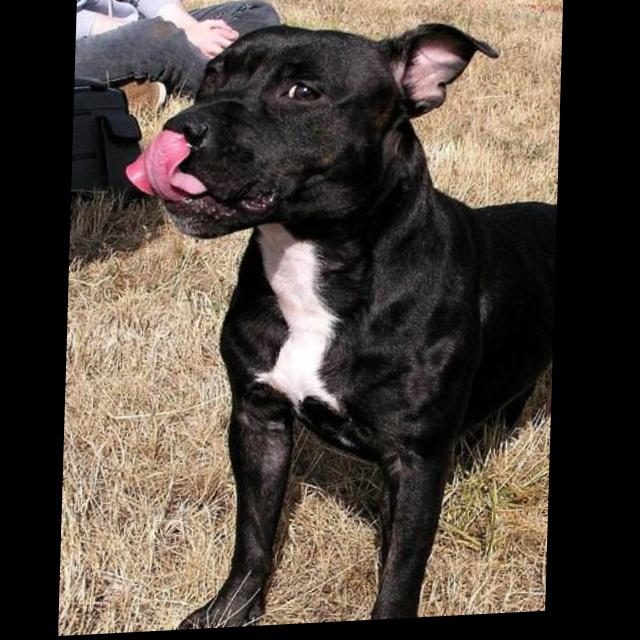staffford: (116, 16, 563, 636)
